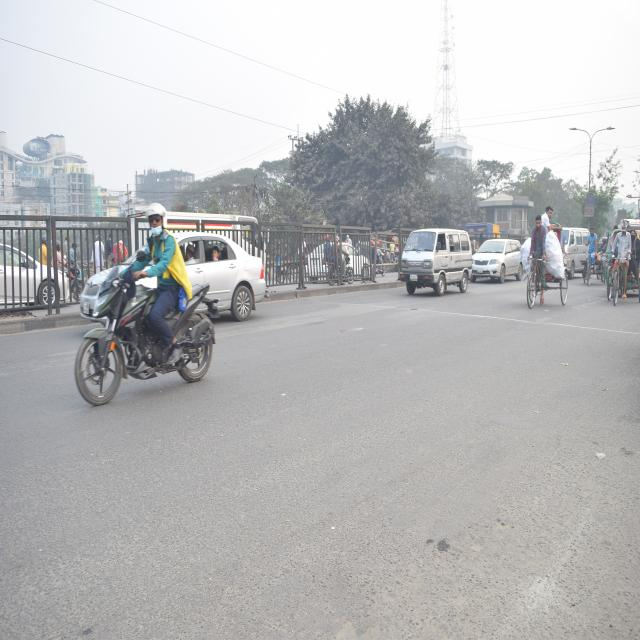car: (77, 220, 271, 339), (474, 231, 525, 287)
microbus: (394, 219, 475, 303), (556, 220, 592, 282)
motorbike: (68, 240, 221, 420)
